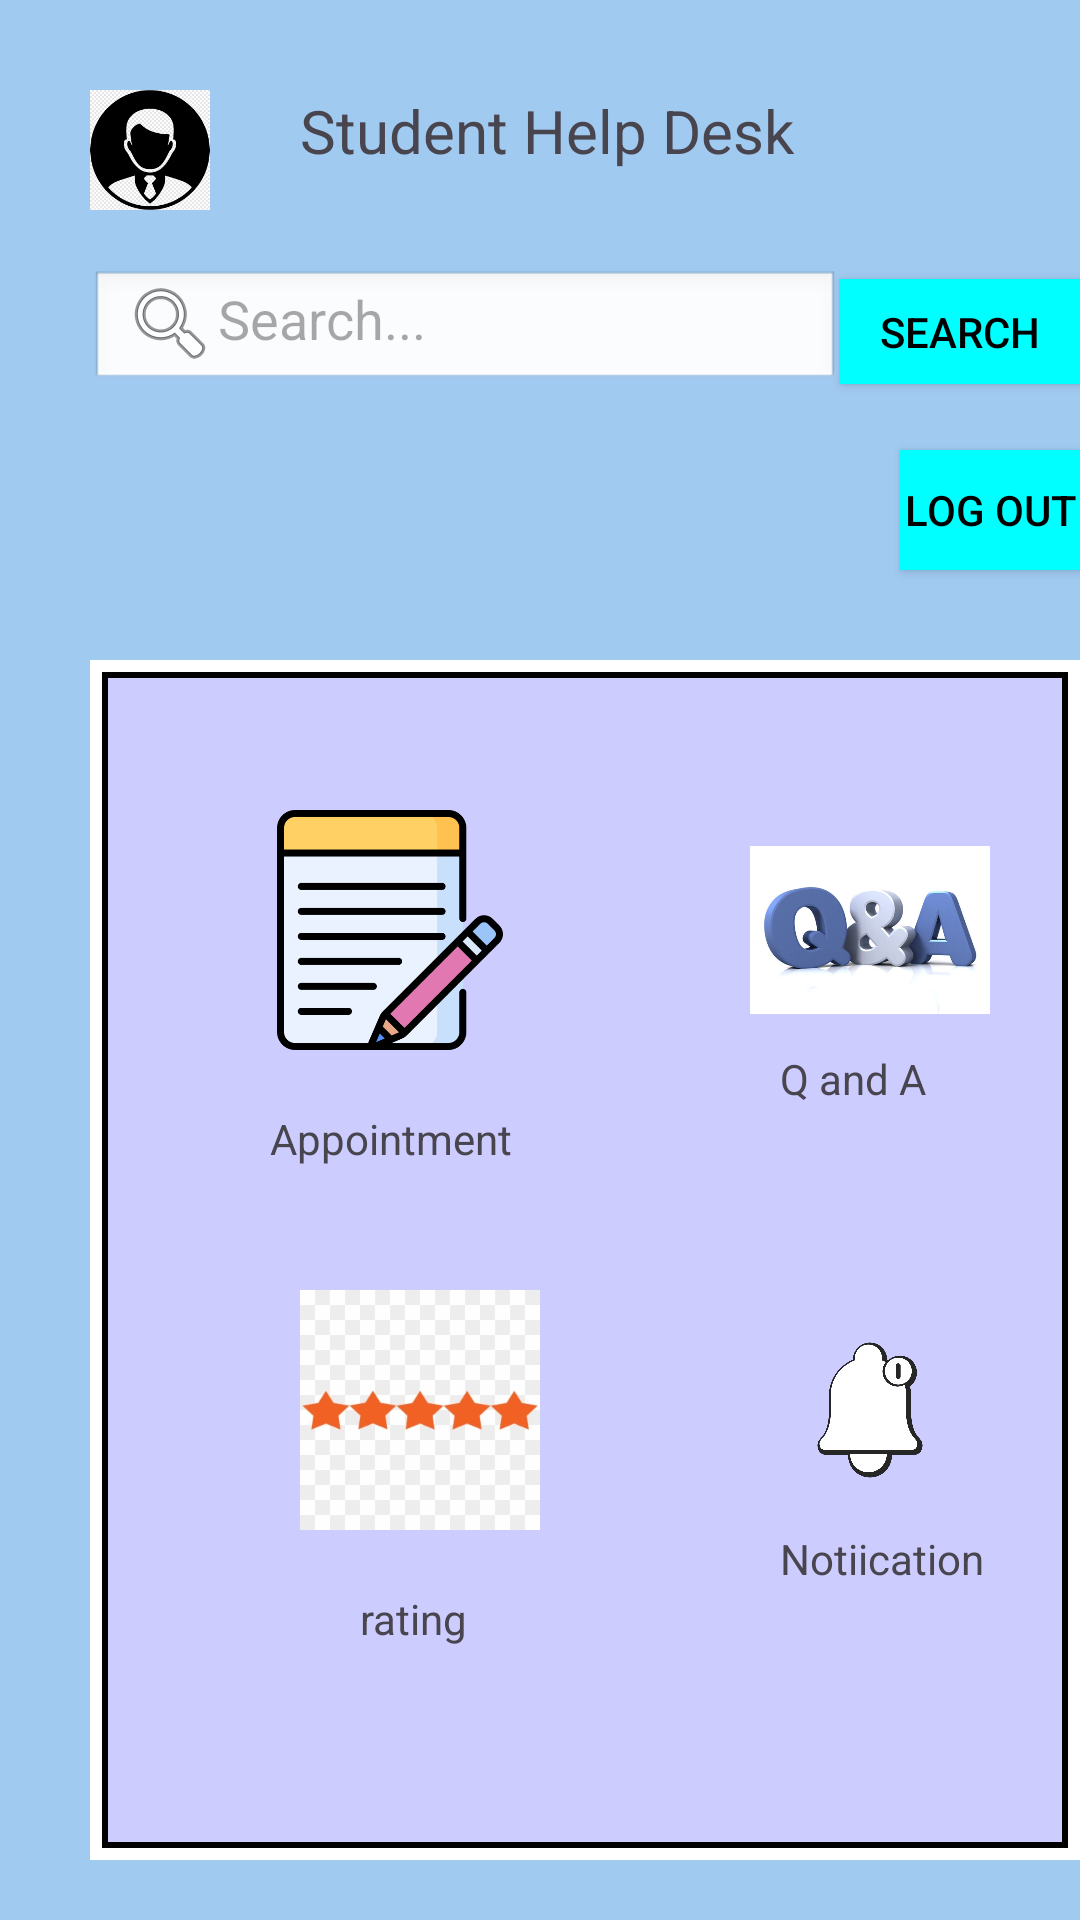

Where to tap for icons on this 1080*1920 app screen, as [x,y]:
notification: [870,1410]
profile: [150,150]
